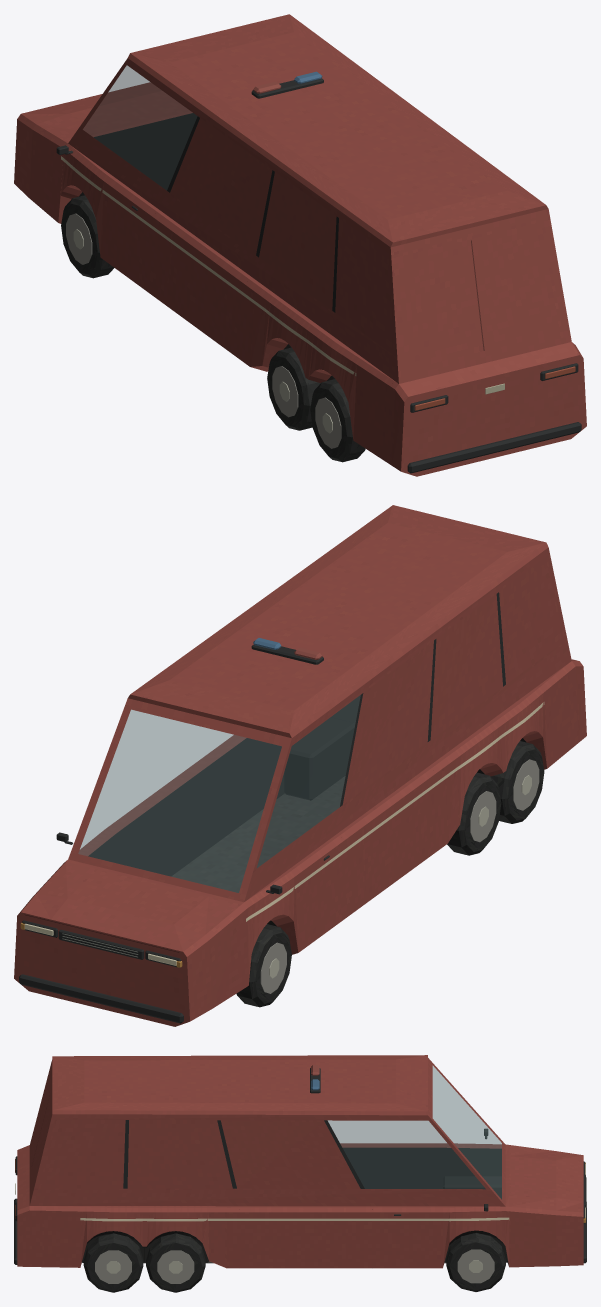
File: vehicle_fire_engine.glb
3 views of the same model, one above another, from view 1: azimuth 30°, elevation 25°; view 2: azimuth 150°, elevation 25°; view 3: azimuth 270°, elevation 25° (orthographic). The views are drawn at different scales.
Parts seen in each view (by area): view 1: closed_body, roof_body, glazing; view 2: closed_body, roof_body, glazing; view 3: closed_body, roof_body, glazing.
Part boxes in pixels (bbox=[...]): closed_body: bbox=[14, 58, 586, 476]; roof_body: bbox=[128, 14, 548, 247]; glazing: bbox=[83, 65, 197, 190]; closed_body: bbox=[14, 547, 586, 1026]; roof_body: bbox=[128, 505, 548, 737]; glazing: bbox=[78, 695, 360, 892]; closed_body: bbox=[14, 1058, 586, 1292]; roof_body: bbox=[52, 1055, 427, 1115]; glazing: bbox=[328, 1066, 501, 1199].
Size of the model in its own units: 2.62 by 2.85 by 8.05.
Materials: 2 (2 with a texture image).
